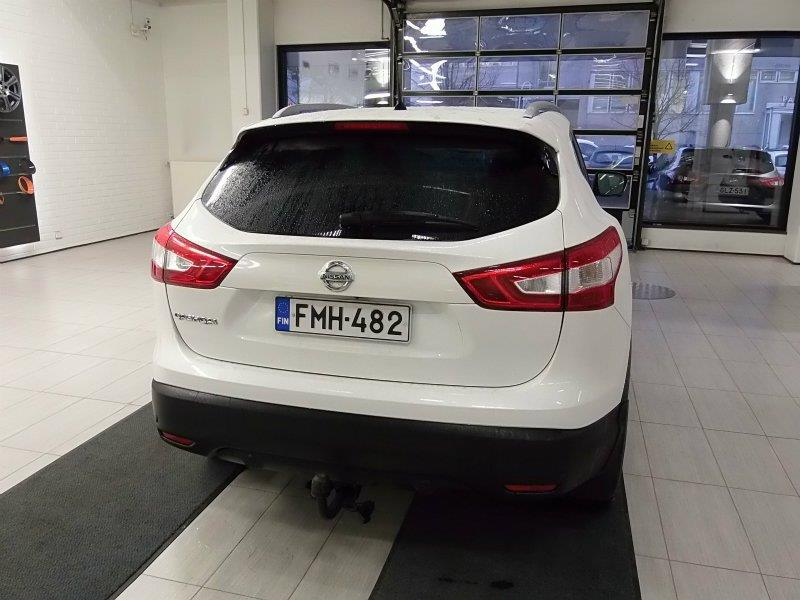license: (268, 295, 409, 351)
